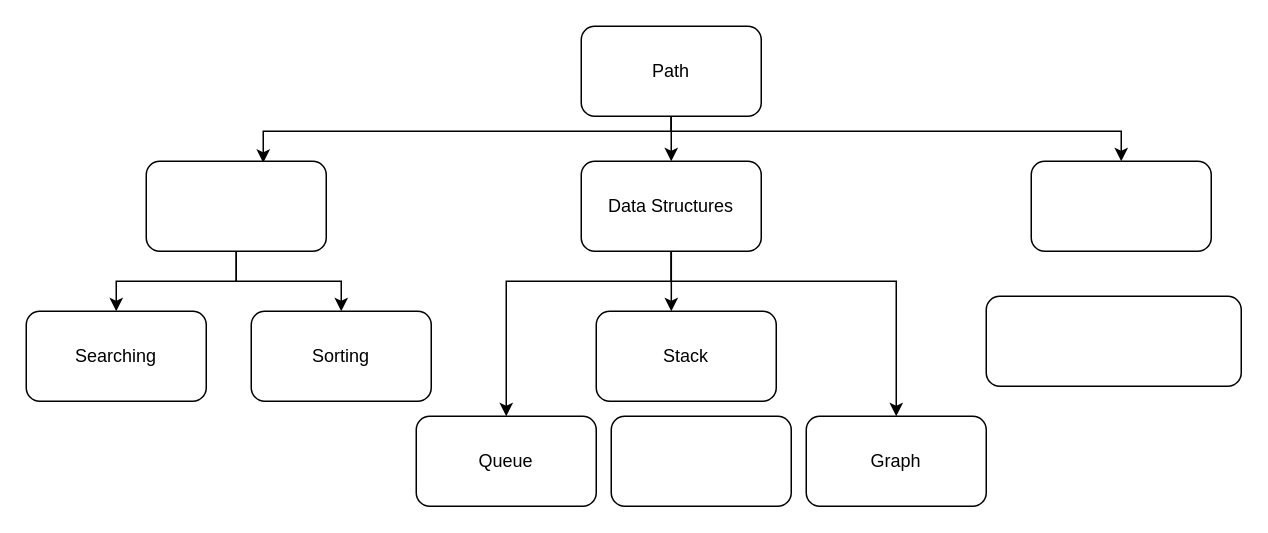
Some shapes in this 1268 by 533 pixel diagram are drawn without their labels. The centre of each missing label's shape, as x and y in pixels:
"Algorithm" goes at pixel 235 205.
"System Design" goes at pixel 1120 205.
"Tech Blogs 1. eng.uber.com 2. developer.amazon.com/blogs" goes at pixel 1113 340.
"Tree" goes at pixel 700 460.
